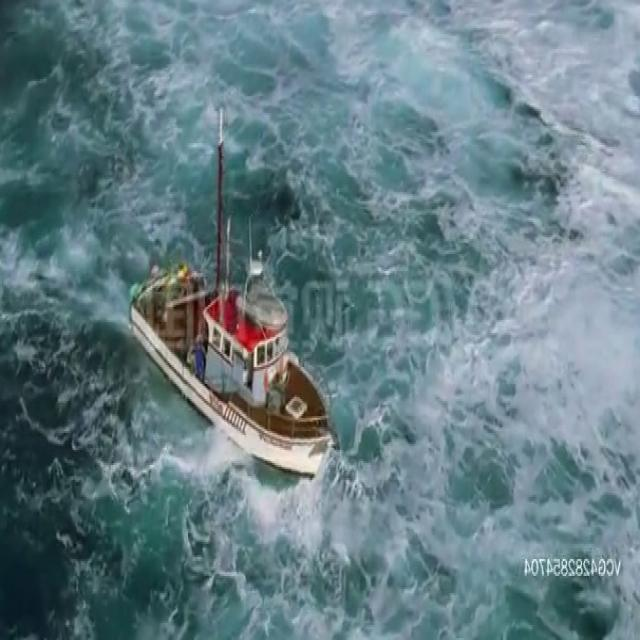houseboat: (132, 237, 336, 469)
